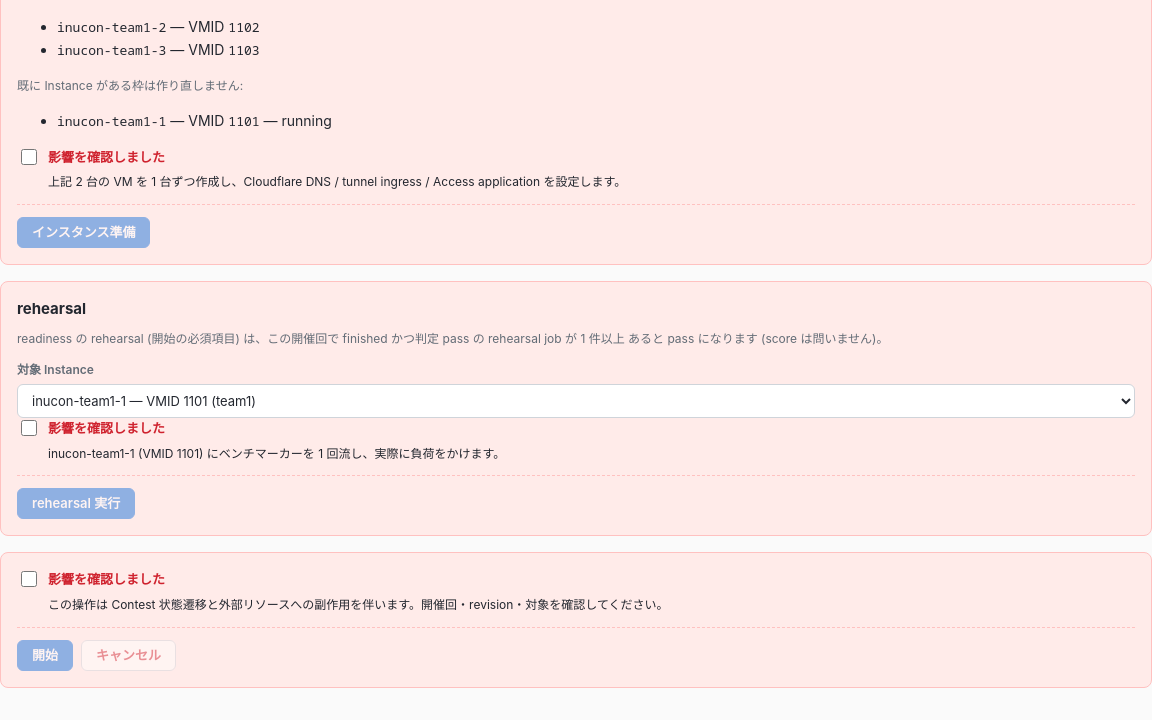
Test case: ContestAdmin › Overview の rehearsal › TeamJobAlreadyQueued で拒否されたらそれと分かる文言を出す
The image size is (1152, 720).
(page scrolled)
Click the 2nd checkbox at (29, 428), box [21, 420, 37, 436]
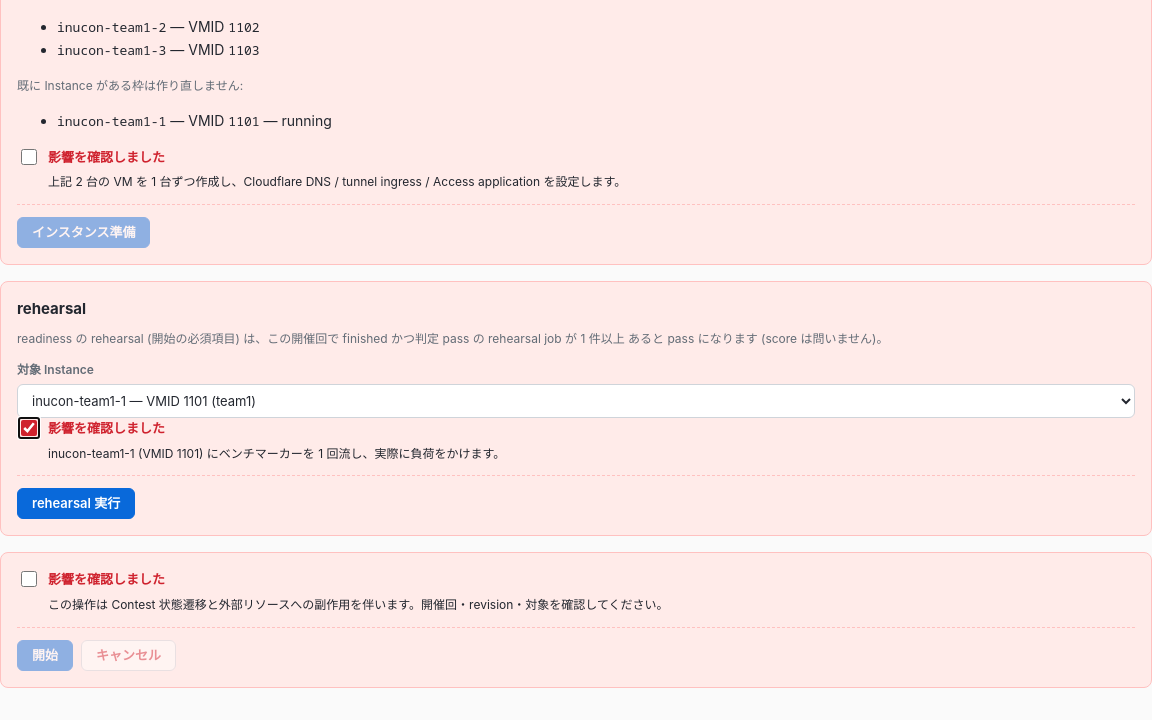
Click the button "rehearsal 実行" at (76, 504), box [17, 488, 135, 519]
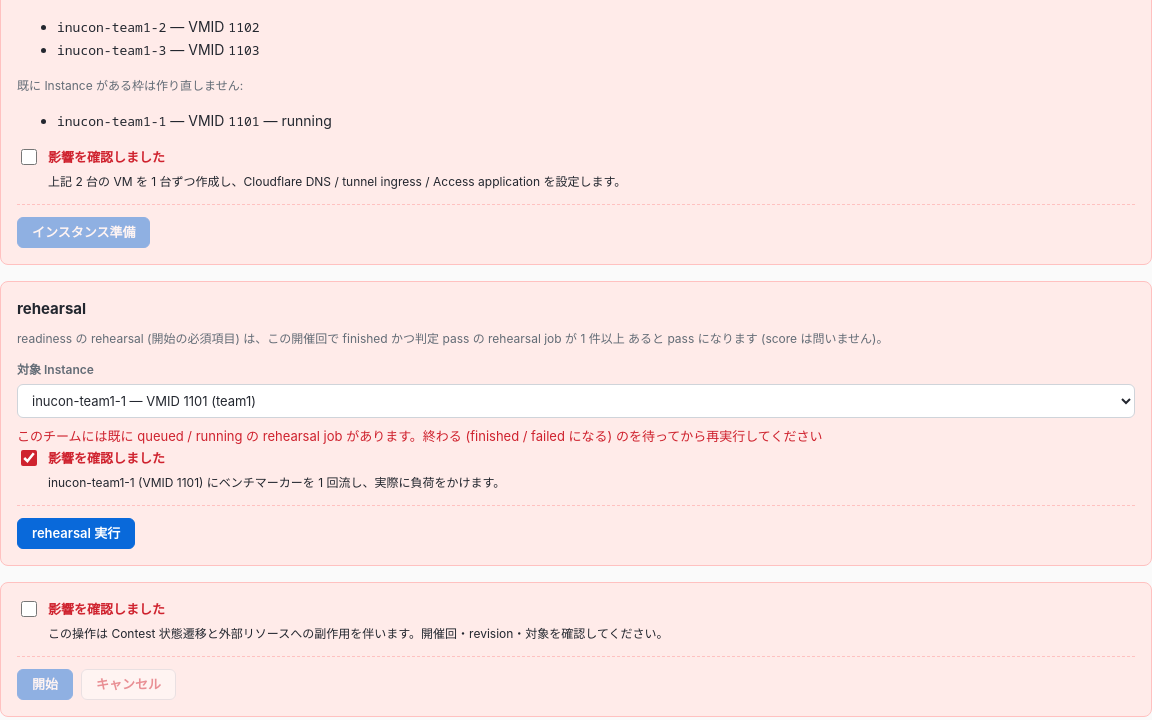
Expected: the message shows "既に queued / running", [17, 428, 822, 444]
